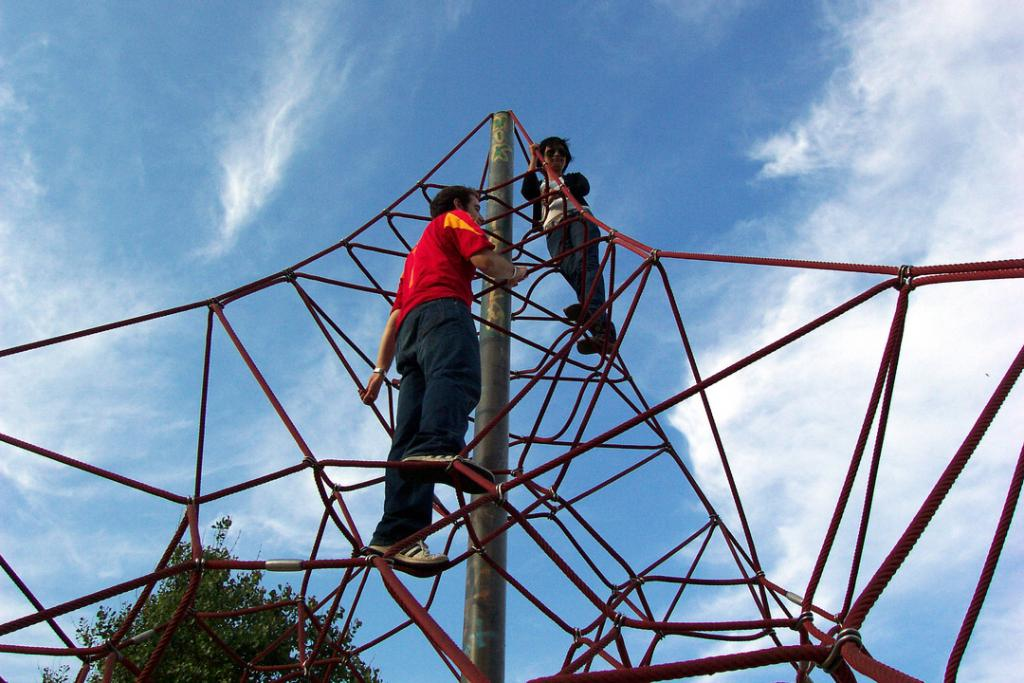Person: (357, 184, 529, 571), (519, 135, 617, 355)
